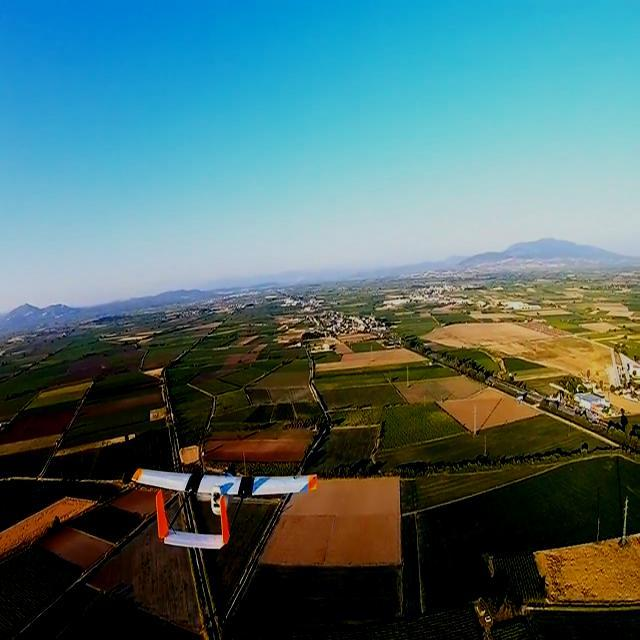iha: (114, 484, 329, 526)
